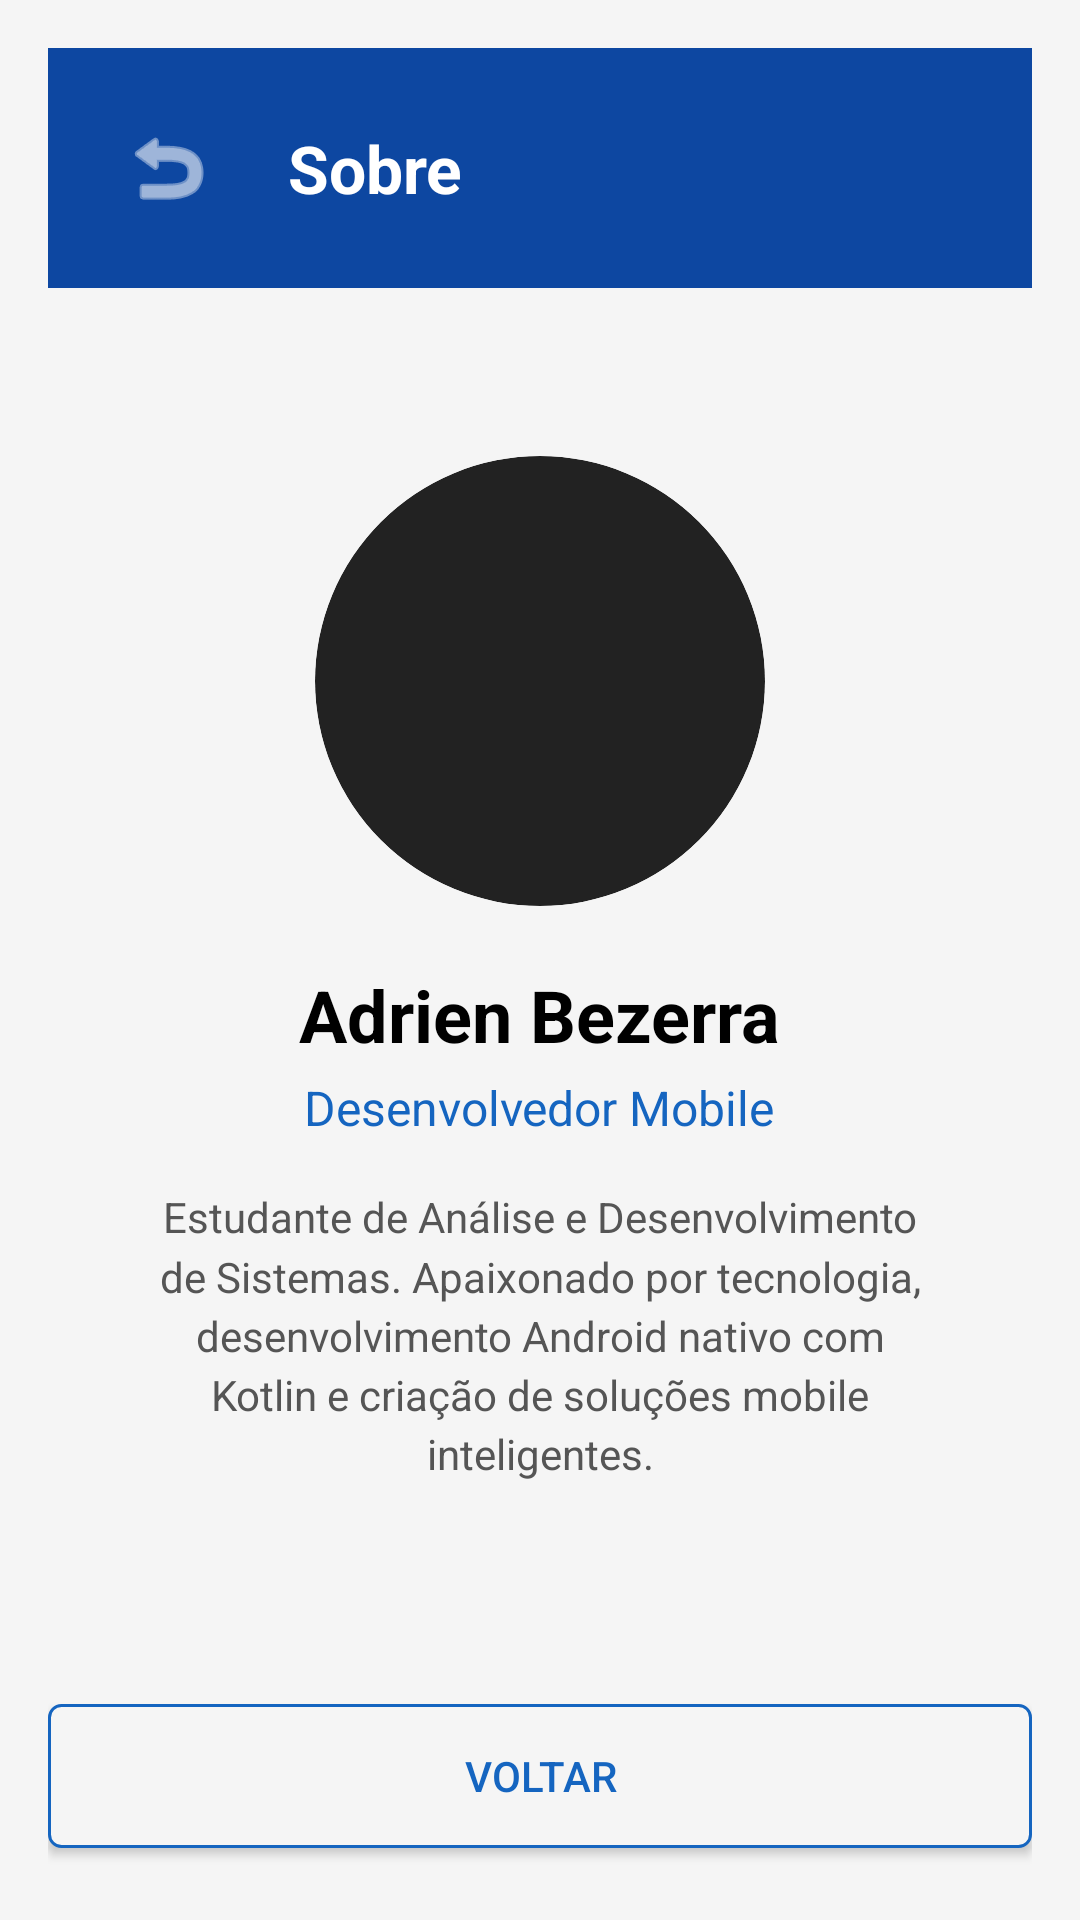

Icons on this 1080×1920 Android screen, each with its box as (x1, y1, x2, y2):
Voltar: (135, 137, 204, 200)
